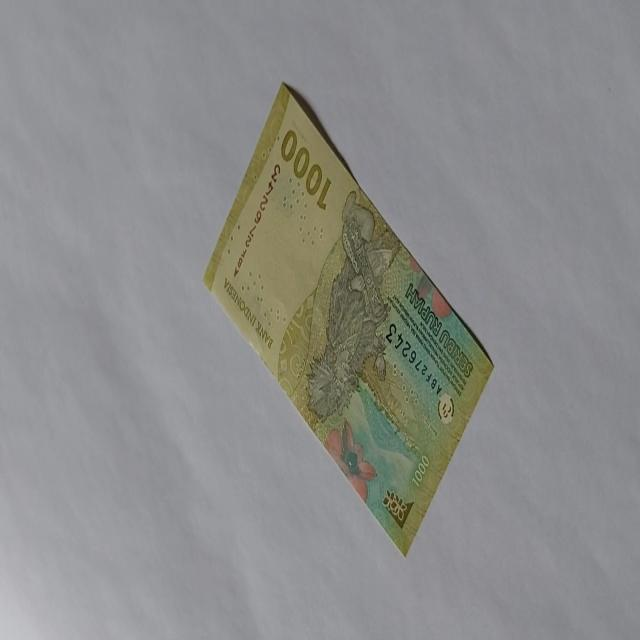seribu rupiah kertas: (202, 80, 494, 558)
